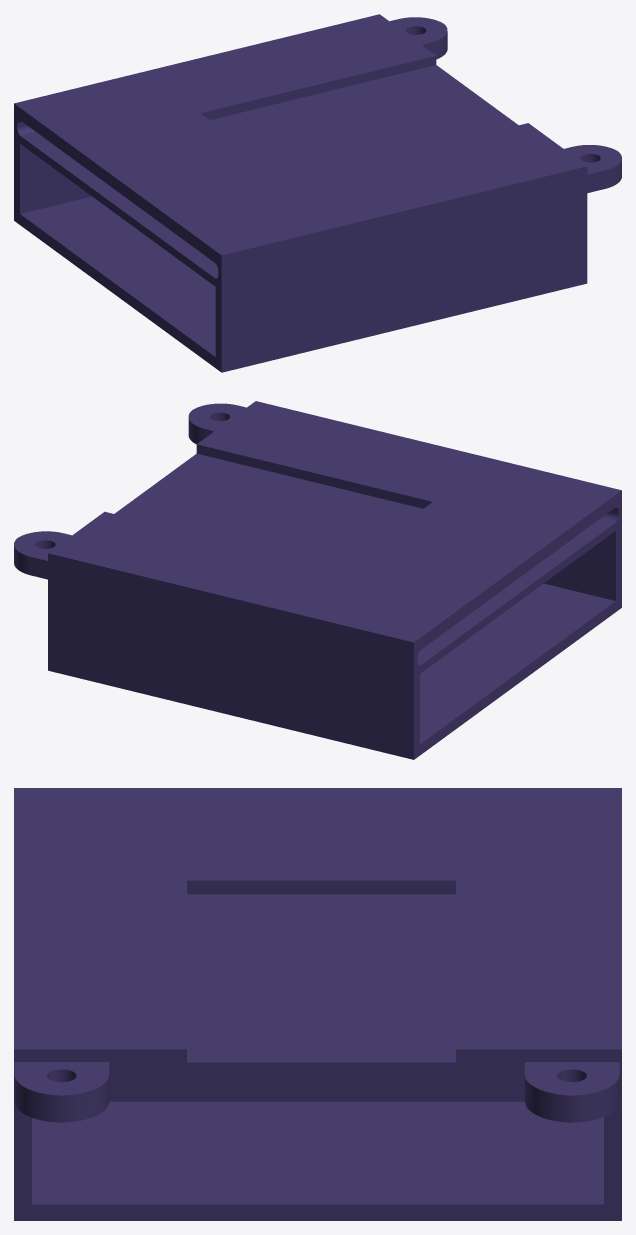
File: TMB prototype V4 - insert.glb
3 views of the same model, one above another, from view 1: azimuth 30°, elevation 25°; view 2: azimuth 150°, elevation 25°; view 3: azimuth 270°, elevation 25° (orthographic). The views are drawn at different scales.
Bounding box in the file's own units: 0.07 × 0.019 × 0.061.
